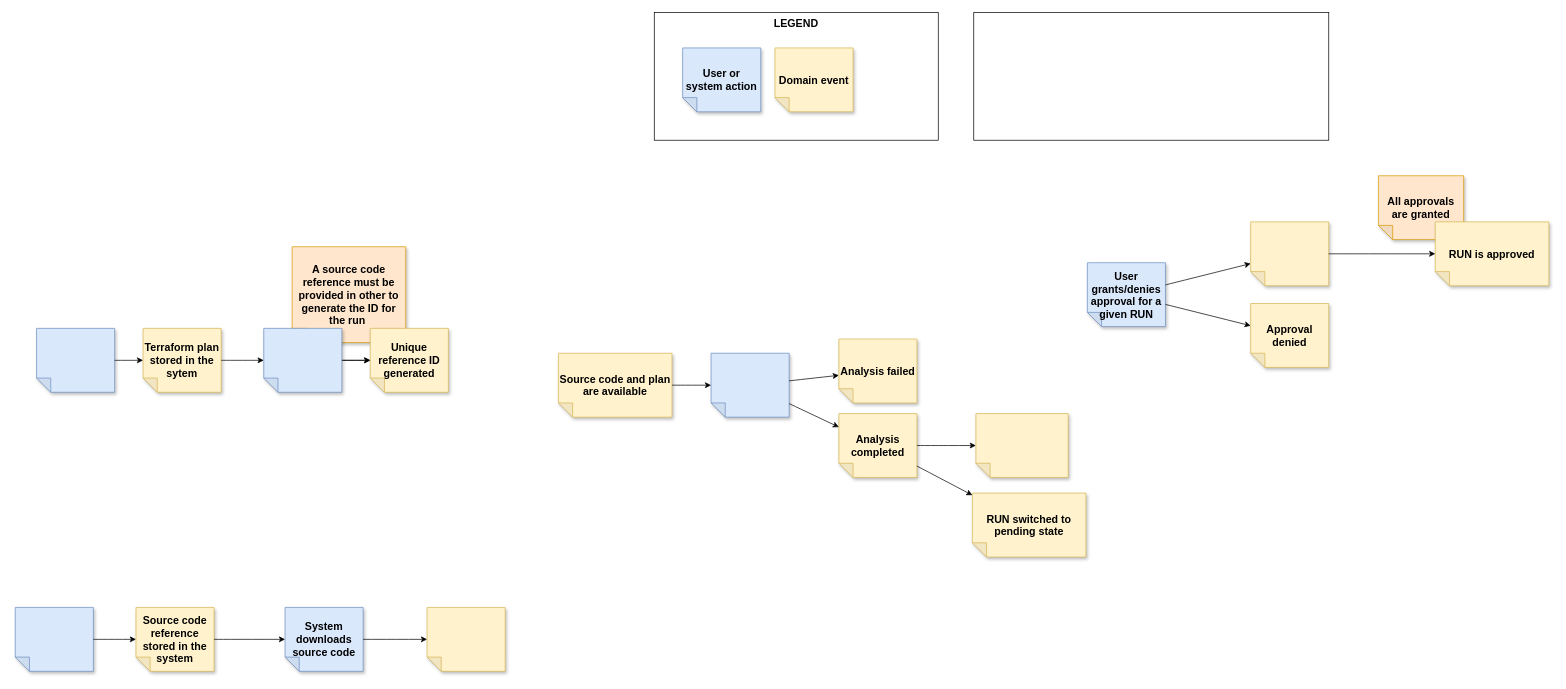
This 1566x689 diagram has some shape labels left out. Here are the shapes that lost their labels. From the top down, the centre of each, then its label:
At point 1151,76: "DEFINITIONS RUN Pair formed by source code reference + Terraform plan".
At point 1290,254: "Approval granted".
At point 76,361: "User provides plan".
At point 303,361: "System generates ID for a RUN".
At point 750,386: "System analyzes source code and TF plan".
At point 1022,446: "Required grants are generated in the system".
At point 55,640: "Usre submits code reference".
At point 466,640: "Source code loaded into the system".
